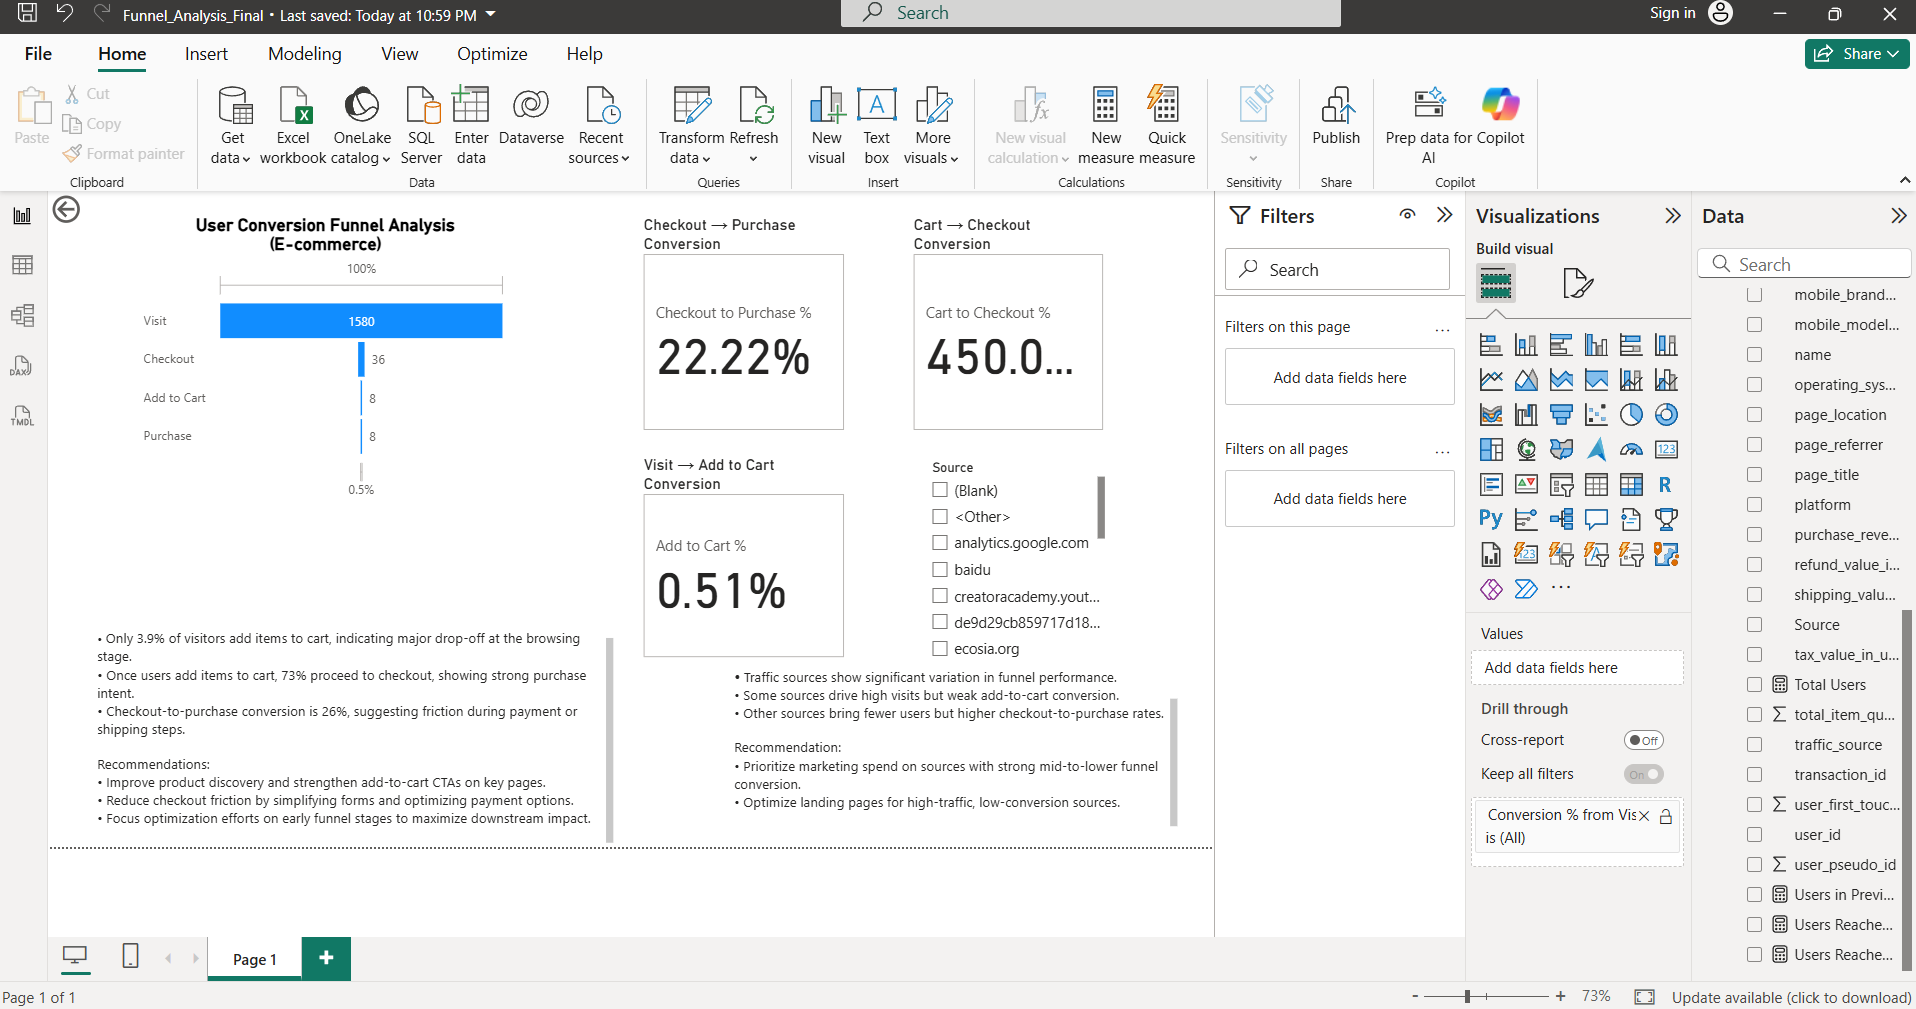

This screenshot's page, from the dashboard's own definition file:
{"tool":"powerbi","page":{"name":"Page 1","canvas":[1280,720],"ordinal":0},"visuals":[{"type":"funnel","title":"User Conversion Funnel Analysis (E-commerce)","fields":{"Category":["Data.funnel_stage"],"Y":["Data.Users Reached Stage (Sequential)"]},"box":[100.2,26.1,408.9,317],"z":0},{"type":"actionButton","box":[0,0,100,40],"z":1000},{"type":"cardVisual","title":"Checkout → Purchase Conversion","fields":{"Data":["Data.Checkout to Purchase %"]},"box":[649.1,26.1,230.5,241.5],"z":2000},{"type":"cardVisual","title":"Cart → Checkout Conversion","fields":{"Data":["Data.Cart to Checkout %"]},"box":[945.5,26.1,218.2,241.5],"z":3000},{"type":"cardVisual","title":"Visit → Add to Cart Conversion","fields":{"Data":["Data.Add to Cart %"]},"box":[649.1,289.5,230.5,227.8],"z":4000},{"type":"textbox","box":[49.4,461.1,576.3,259.3],"z":4001},{"type":"slicer","fields":{"Values":["Data.Source"]},"box":[957.8,289.5,207.2,227.8],"z":4002},{"type":"textbox","box":[747.9,517.3,496.7,185.2],"z":4004}]}

Visuals, with their boxes on the page's 1280x720 design canvas (x1, y1, x2, y2). These are canvas units, not pixel positions in the 1916x1009 screenshot, which may show the page scaled, cropped or inside an application window:
"User Conversion Funnel Analysis (E-commerce)" funnel: 100/26/509/343
actionButton: 0/0/100/40
"Checkout → Purchase Conversion" cardVisual: 649/26/880/268
"Cart → Checkout Conversion" cardVisual: 946/26/1164/268
"Visit → Add to Cart Conversion" cardVisual: 649/290/880/517
textbox: 49/461/626/720
slicer - Data.Source: 958/290/1165/517
textbox: 748/517/1245/702
